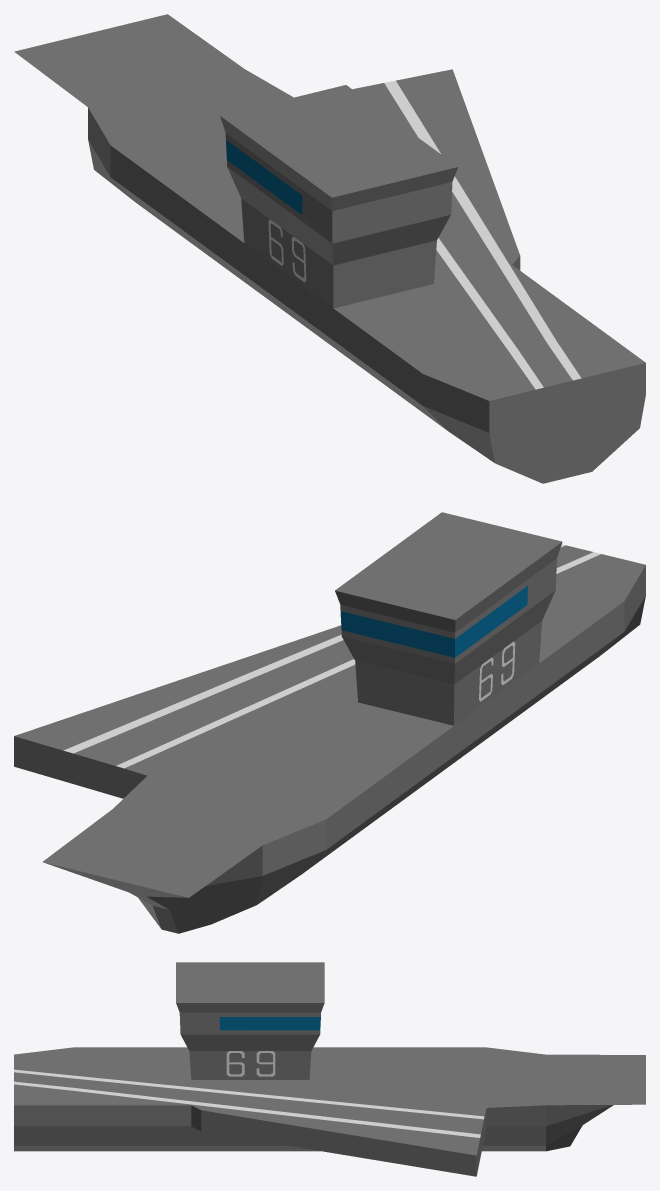
Rendered from AircraftCarrier.glb.
3 renders of one model, top to bottom at view 1: azimuth 30°, elevation 25°; view 2: azimuth 150°, elevation 25°; view 3: azimuth 270°, elevation 25°, orthographic. The views are drawn at different scales.
Parts seen in each view (by area): view 1: Aircraft-Carrier.001; view 2: Aircraft-Carrier.001; view 3: Aircraft-Carrier.001.
Part boxes in pixels (x1,y1,x2,y2): Aircraft-Carrier.001: (14, 14, 645, 483); Aircraft-Carrier.001: (14, 512, 645, 933); Aircraft-Carrier.001: (14, 962, 645, 1176).
Bounding box in the file's own units: 7.58 × 4.55 × 18.01.
